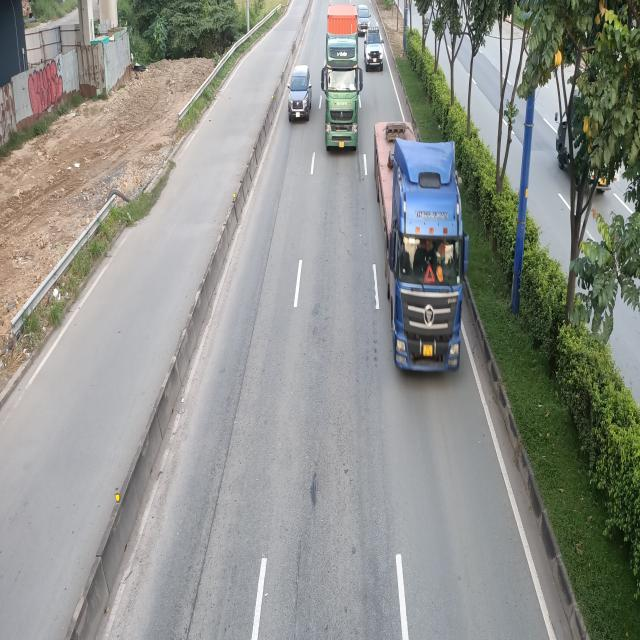car: (287, 64, 312, 122), (366, 24, 385, 71)
container: (378, 115, 470, 374), (322, 4, 362, 154)
